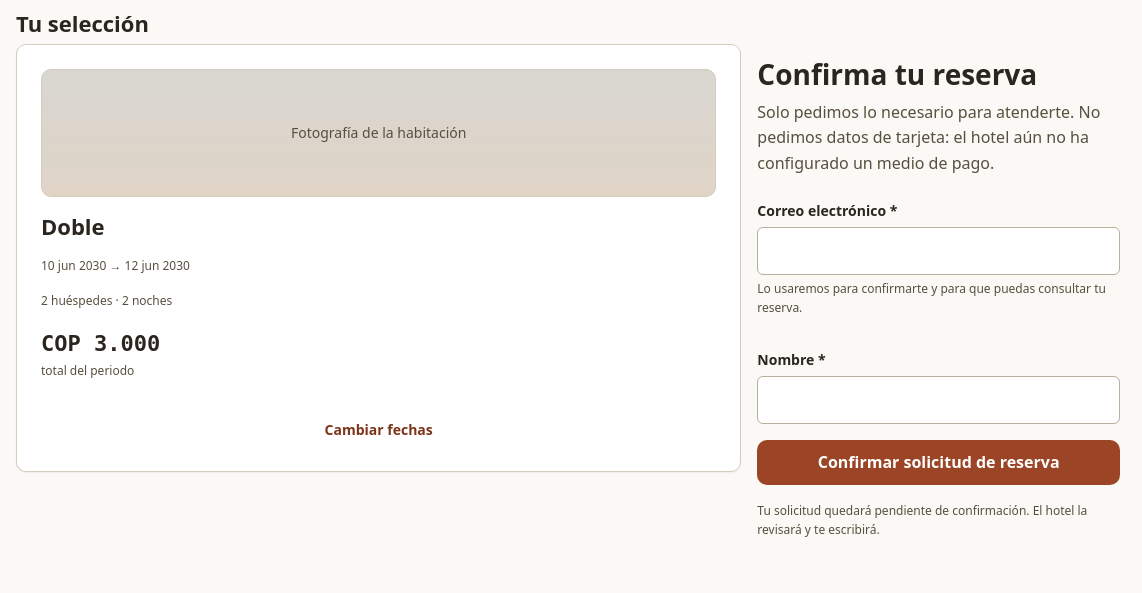
Test case: PaginaReserva › indica en el campo si falta el nombre y no envía la reserva
Type "ana@hotel.test" into the field labelled "Correo electrónico *". click: [939, 251]
box: [757, 227, 1120, 275]
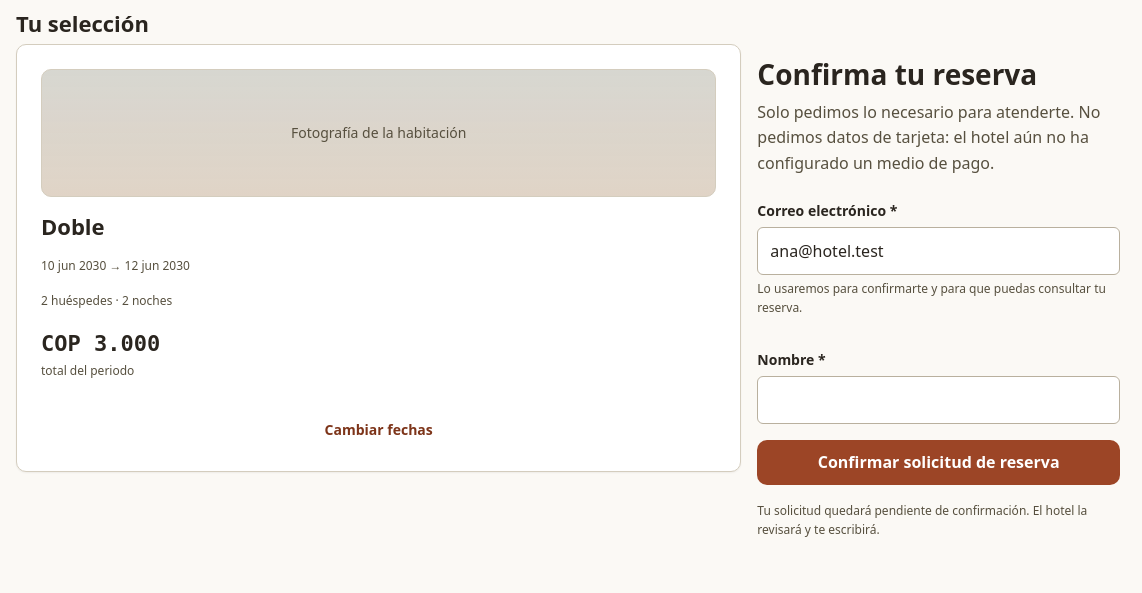
Click the button "Confirmar solicitud de reserva". click: [939, 462]
box: [757, 440, 1120, 485]
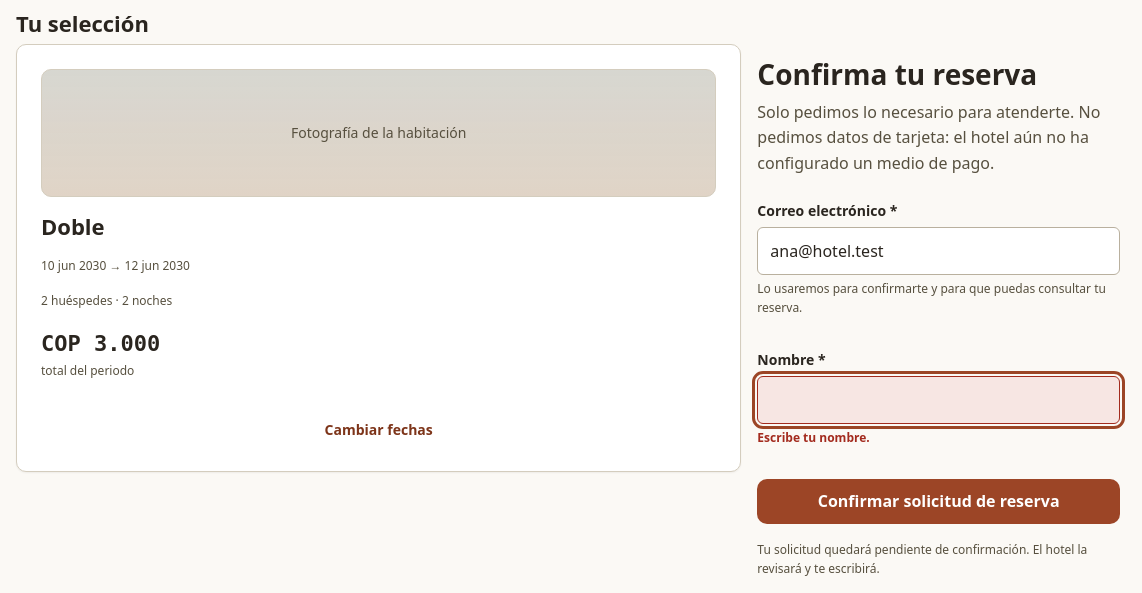
Expected: the text "Escribe tu nombre." is shown, [757, 428, 870, 446]
